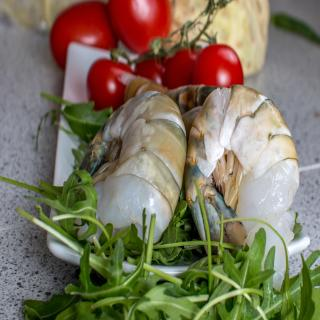tomato: (48, 0, 119, 72), (107, 0, 174, 59), (190, 28, 246, 88), (87, 49, 138, 110), (164, 40, 203, 88), (134, 35, 168, 84)
